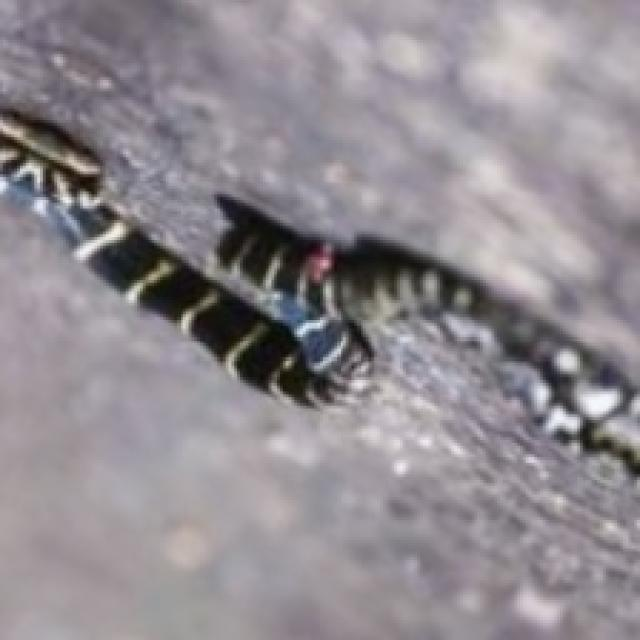king cobra: (0, 111, 366, 403), (334, 243, 637, 494)
